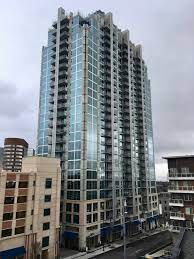Sky Building: (31, 6, 165, 234)
